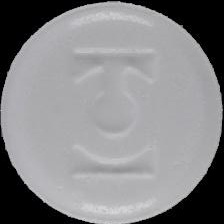63459-541: (0, 0, 224, 224)
